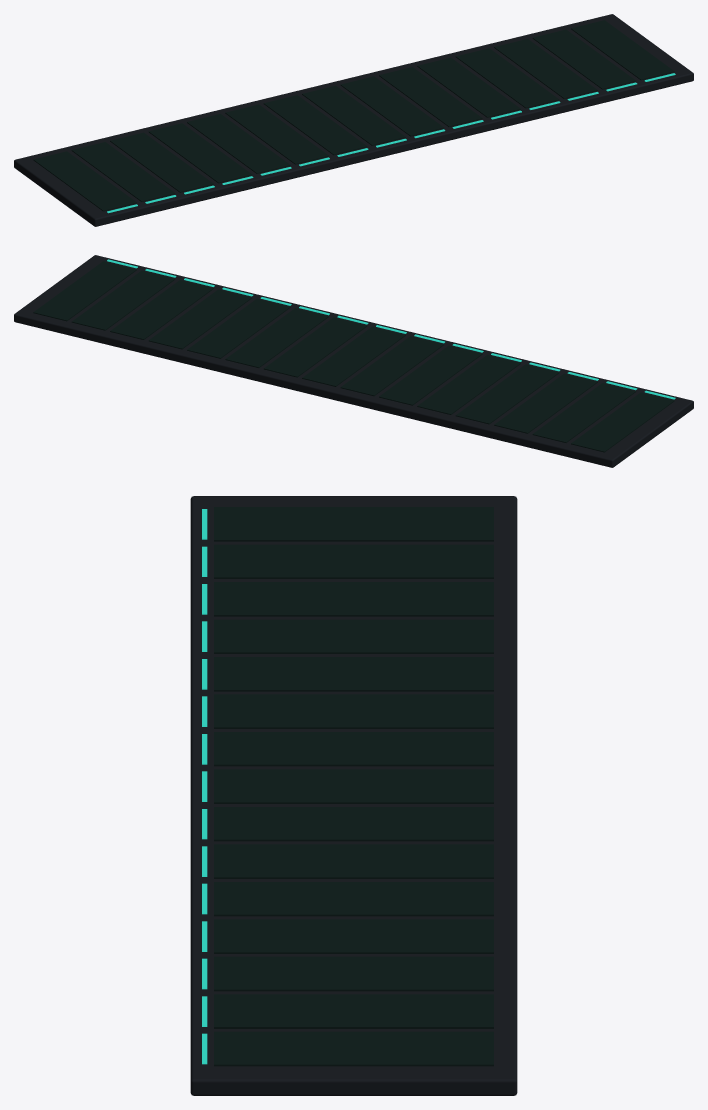
The model's file is skyline.glb.
3 renders of one model, top to bottom at view 1: azimuth 30°, elevation 25°; view 2: azimuth 150°, elevation 25°; view 3: azimuth 270°, elevation 25°, orthographic. The views are drawn at different scales.
Parts seen in each view (by area): view 1: Skyline_Plate, Lane_05, Lane_00, Lane_01, Lane_06, Lane_02, Lane_03, Lane_04, Lane_10, Lane_11, Lane_13, Lane_14 (+4 smaller); view 2: Skyline_Plate, Lane_05, Lane_00, Lane_01, Lane_06, Lane_02, Lane_03, Lane_04, Lane_10, Lane_11, Lane_13, Lane_14 (+4 smaller); view 3: Skyline_Plate, Lane_12, Lane_14, Lane_00, Lane_01, Lane_02, Lane_03, Lane_04, Lane_05, Lane_06, Lane_07, Lane_08 (+4 smaller).
Boxes of the visible parts, bbox=[...] form: Skyline_Plate: bbox=[14, 14, 693, 226]; Lane_05: bbox=[225, 104, 328, 164]; Lane_00: bbox=[33, 151, 136, 211]; Lane_01: bbox=[71, 142, 175, 201]; Lane_06: bbox=[263, 95, 367, 155]; Lane_02: bbox=[110, 132, 213, 192]; Lane_03: bbox=[148, 123, 252, 183]; Lane_04: bbox=[187, 114, 290, 173]; Lane_10: bbox=[417, 57, 520, 117]; Lane_11: bbox=[455, 48, 559, 108]; Lane_13: bbox=[532, 29, 636, 89]; Lane_14: bbox=[571, 20, 674, 80]; Skyline_Plate: bbox=[14, 255, 693, 467]; Lane_05: bbox=[379, 345, 482, 405]; Lane_00: bbox=[571, 392, 674, 452]; Lane_01: bbox=[532, 383, 636, 442]; Lane_06: bbox=[340, 336, 444, 396]; Lane_02: bbox=[494, 373, 597, 433]; Lane_03: bbox=[455, 364, 559, 424]; Lane_04: bbox=[417, 355, 520, 414]; Lane_10: bbox=[187, 298, 290, 358]; Lane_11: bbox=[148, 289, 252, 349]; Lane_13: bbox=[71, 270, 175, 330]; Lane_14: bbox=[33, 261, 136, 321]; Skyline_Plate: bbox=[190, 496, 517, 1095]; Lane_12: bbox=[214, 956, 493, 991]; Lane_14: bbox=[214, 1031, 493, 1066]; Lane_00: bbox=[214, 507, 493, 541]; Lane_01: bbox=[214, 544, 493, 578]; Lane_02: bbox=[214, 582, 493, 616]; Lane_03: bbox=[214, 619, 493, 653]; Lane_04: bbox=[214, 657, 493, 691]; Lane_05: bbox=[214, 694, 493, 728]; Lane_06: bbox=[214, 732, 493, 766]; Lane_07: bbox=[214, 769, 493, 803]; Lane_08: bbox=[214, 807, 493, 841].
Size of the model in its own units: 8.9 by 0.132 by 2.1.
